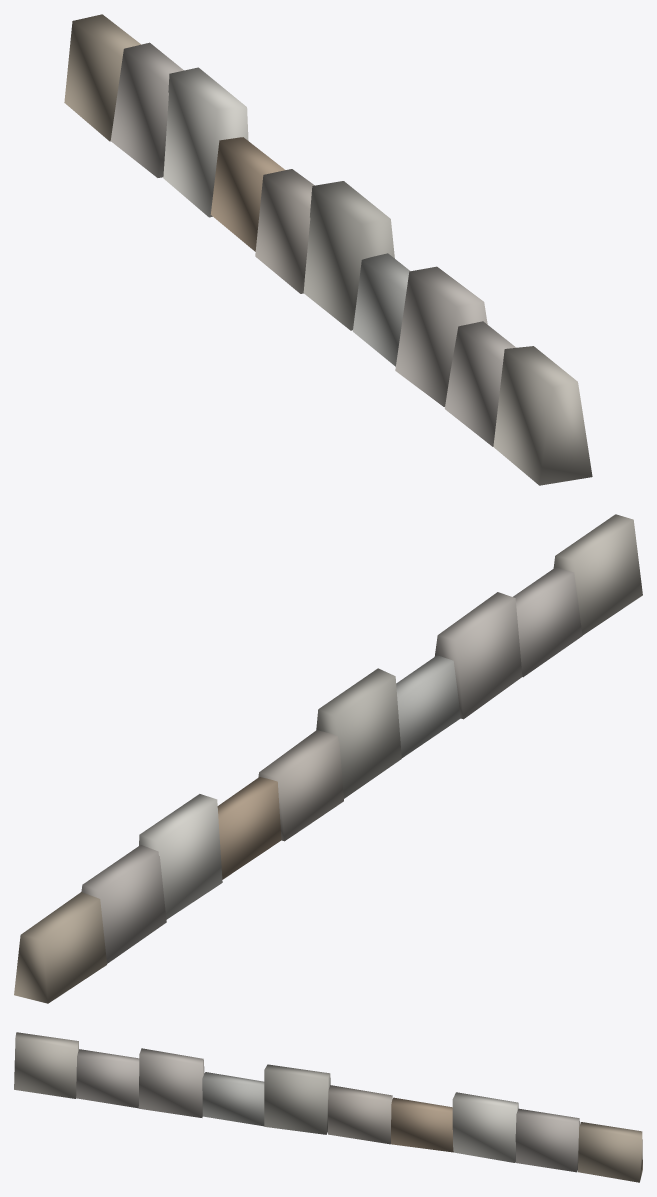
The model's file is farm_-4_-3_far.glb.
3 renders of one model, top to bottom at view 1: azimuth 30°, elevation 25°; view 2: azimuth 150°, elevation 25°; view 3: azimuth 270°, elevation 25°, orthographic. The views are drawn at different scales.
Visible parts, largest first — view 1: geometry_0; view 2: geometry_0; view 3: geometry_0.
Part boxes in pixels (x1,y1,x2,y2): geometry_0: (64, 14, 592, 485); geometry_0: (14, 514, 642, 1003); geometry_0: (14, 1032, 642, 1182).
Bounding box in the file's own units: 2.88 × 2.92 × 15.77.
